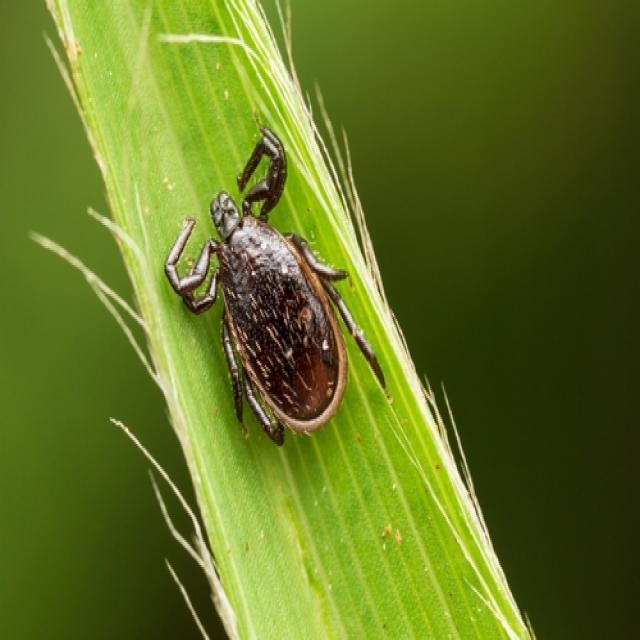Ixodes Ricinus-M: (165, 127, 393, 448)
